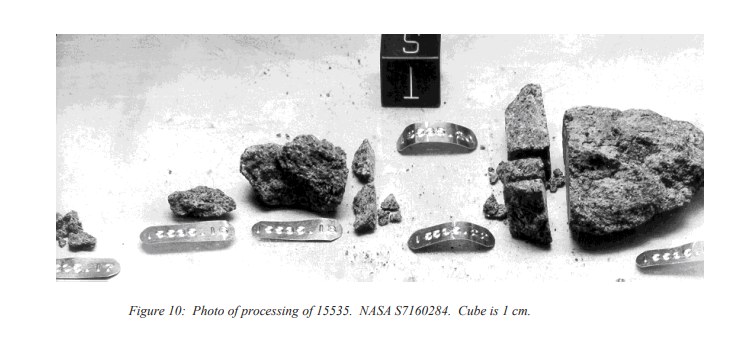Basalt: (482, 68, 709, 251), (200, 121, 378, 209), (132, 167, 244, 215), (15, 190, 111, 242)
